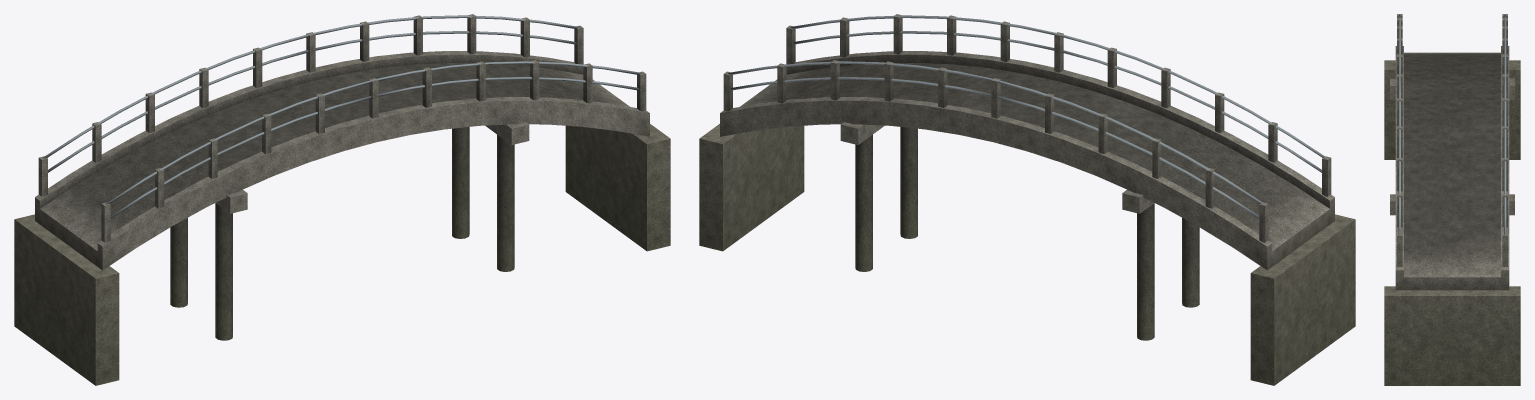
Rendered from bridge_concrete.glb.
3 renders of one model, left to right at view 1: azimuth 30°, elevation 25°; view 2: azimuth 150°, elevation 25°; view 3: azimuth 270°, elevation 25°, orthographic. The views are drawn at different scales.
Visible parts, largest first — view 1: bridge_concrete_mesh; view 2: bridge_concrete_mesh; view 3: bridge_concrete_mesh.
Boxes of the visible parts, left/top/right/bottom form: bridge_concrete_mesh: left=14, top=14, right=670, bottom=385; bridge_concrete_mesh: left=699, top=14, right=1355, bottom=385; bridge_concrete_mesh: left=1384, top=14, right=1520, bottom=385.
Bounding box in the file's own units: 14.7 × 5.61 × 3.6.
2 materials, 2 textured.
